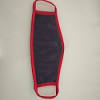cloth_mask: (28, 1, 66, 99)
